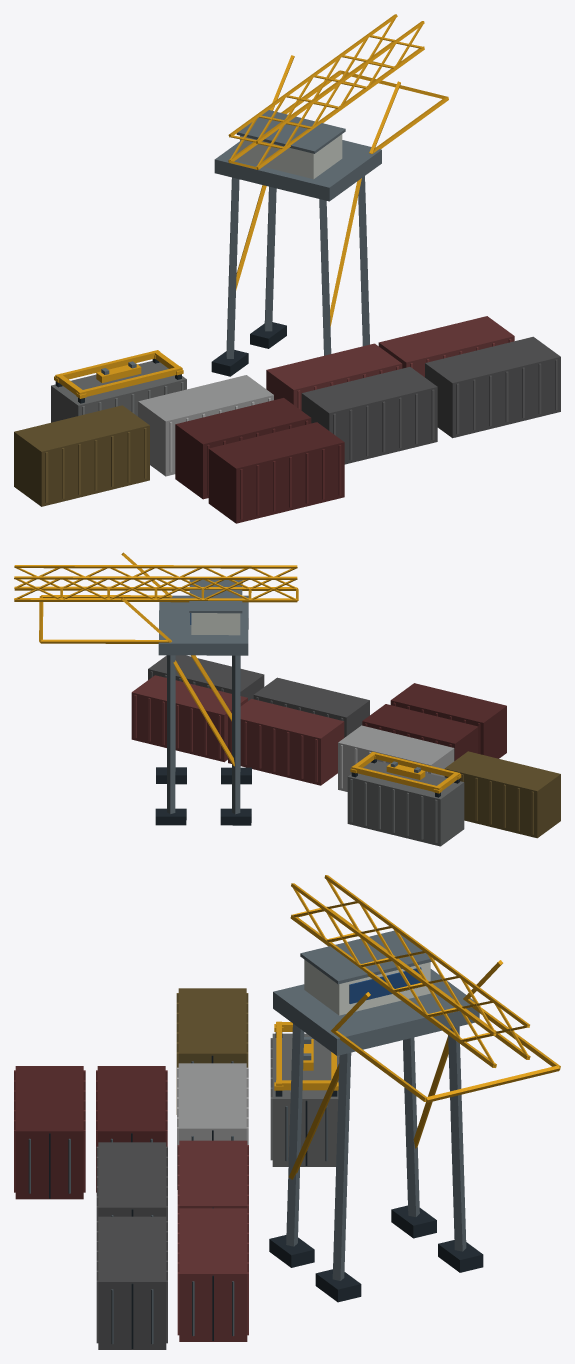
File: SeaportSystem-02-ShipToShoreGantryCrane-01-20Footer-4-02.glb
The picture shows the model from 3 angles, top to bottom: view 1: azimuth 30°, elevation 25°; view 2: azimuth 150°, elevation 25°; view 3: azimuth 270°, elevation 25°; orthographic projection. The views are drawn at different scales.
Visible parts, largest first — view 1: SeaportSystem-02-ShipToShoreGantryCrane-01-20Footer-4-02; view 2: SeaportSystem-02-ShipToShoreGantryCrane-01-20Footer-4-02; view 3: SeaportSystem-02-ShipToShoreGantryCrane-01-20Footer-4-02.
Part boxes in pixels (x1,y1,x2,y2): SeaportSystem-02-ShipToShoreGantryCrane-01-20Footer-4-02: [14, 14, 560, 523]; SeaportSystem-02-ShipToShoreGantryCrane-01-20Footer-4-02: [14, 552, 560, 846]; SeaportSystem-02-ShipToShoreGantryCrane-01-20Footer-4-02: [14, 875, 560, 1349].
Bounding box in the file's own units: 62.14 × 31.18 × 46.67.
